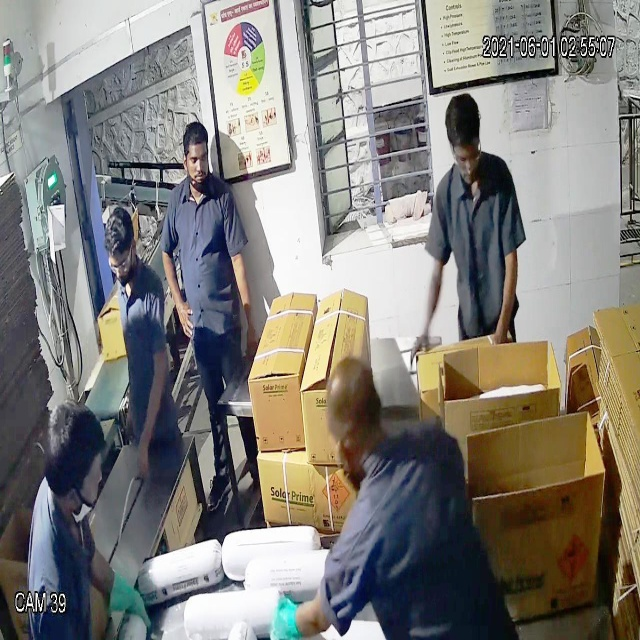Gafas: (445, 138, 485, 176), (100, 243, 141, 279)
